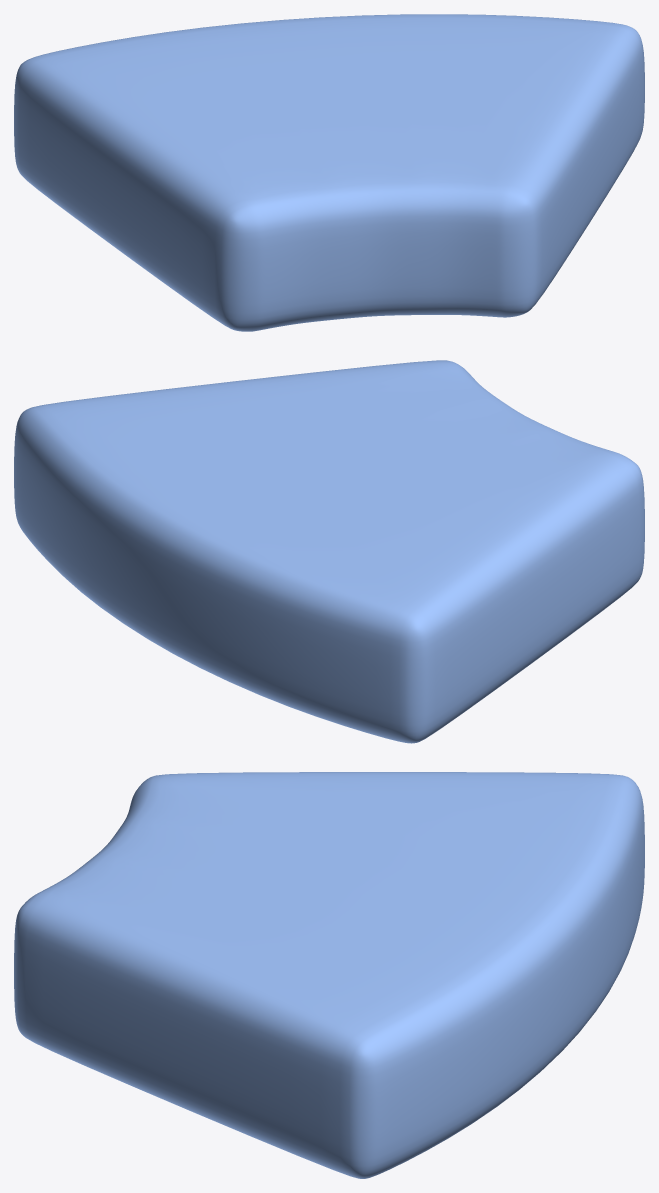
File: 45_deg_platform.fbx
3 views of the same model, one above another, from view 1: azimuth 30°, elevation 25°; view 2: azimuth 150°, elevation 25°; view 3: azimuth 270°, elevation 25° (orthographic). The views are drawn at different scales.
Parts seen in each view (by area): view 1: Circle.45; view 2: Circle.45; view 3: Circle.45.
Boxes of the visible parts, box(x1,y1,x2,y2) form: Circle.45: box(14, 14, 644, 331); Circle.45: box(14, 360, 644, 743); Circle.45: box(14, 772, 644, 1178).
Bounding box in the file's own units: 68.79 × 17.12 × 64.42.
